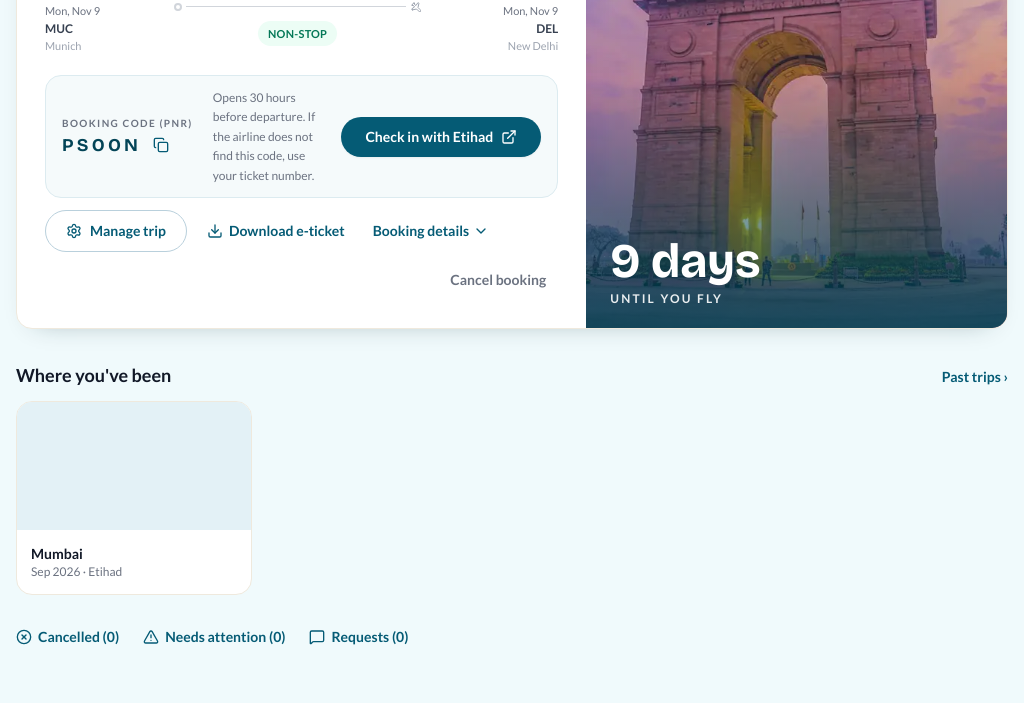
Scenario: My Trips, next trip first › shows past trips as city cards, and one opens in the past list
The width and height of the screenshot is (1024, 703).
(page scrolled)
Click the button "Mumbai Sep 2026 · Etihad": coordinates (134, 498) x1=16 y1=401 x2=252 y2=595
(page scrolled)
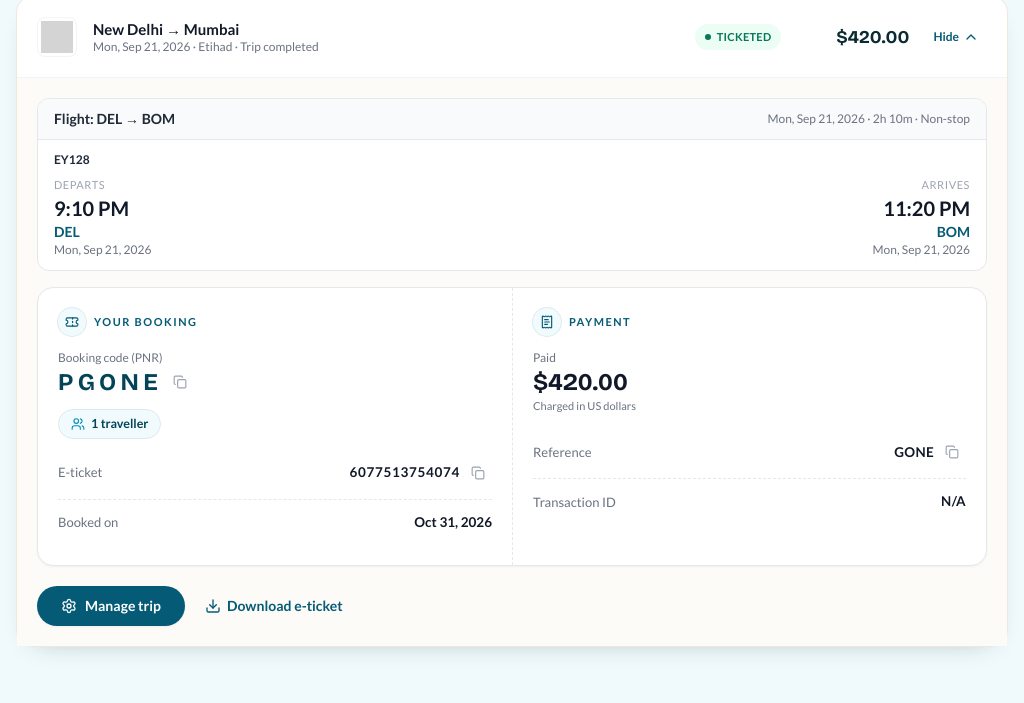
Check: the element with test id "trip-details" is shown
